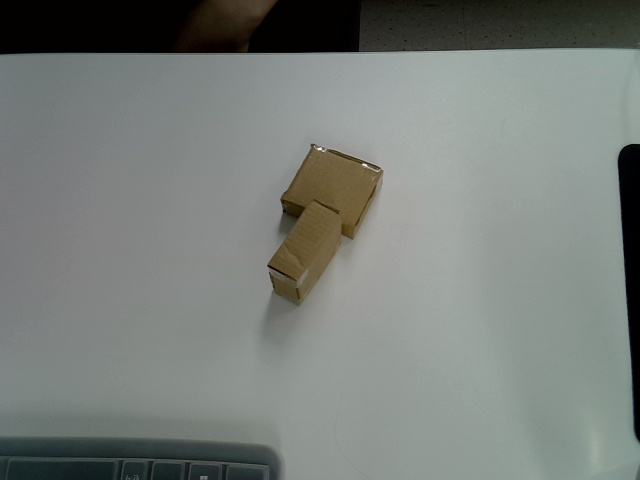normal: (280, 143, 384, 239), (268, 200, 341, 306)
